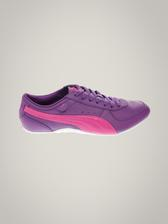shoes: (17, 84, 151, 133)
